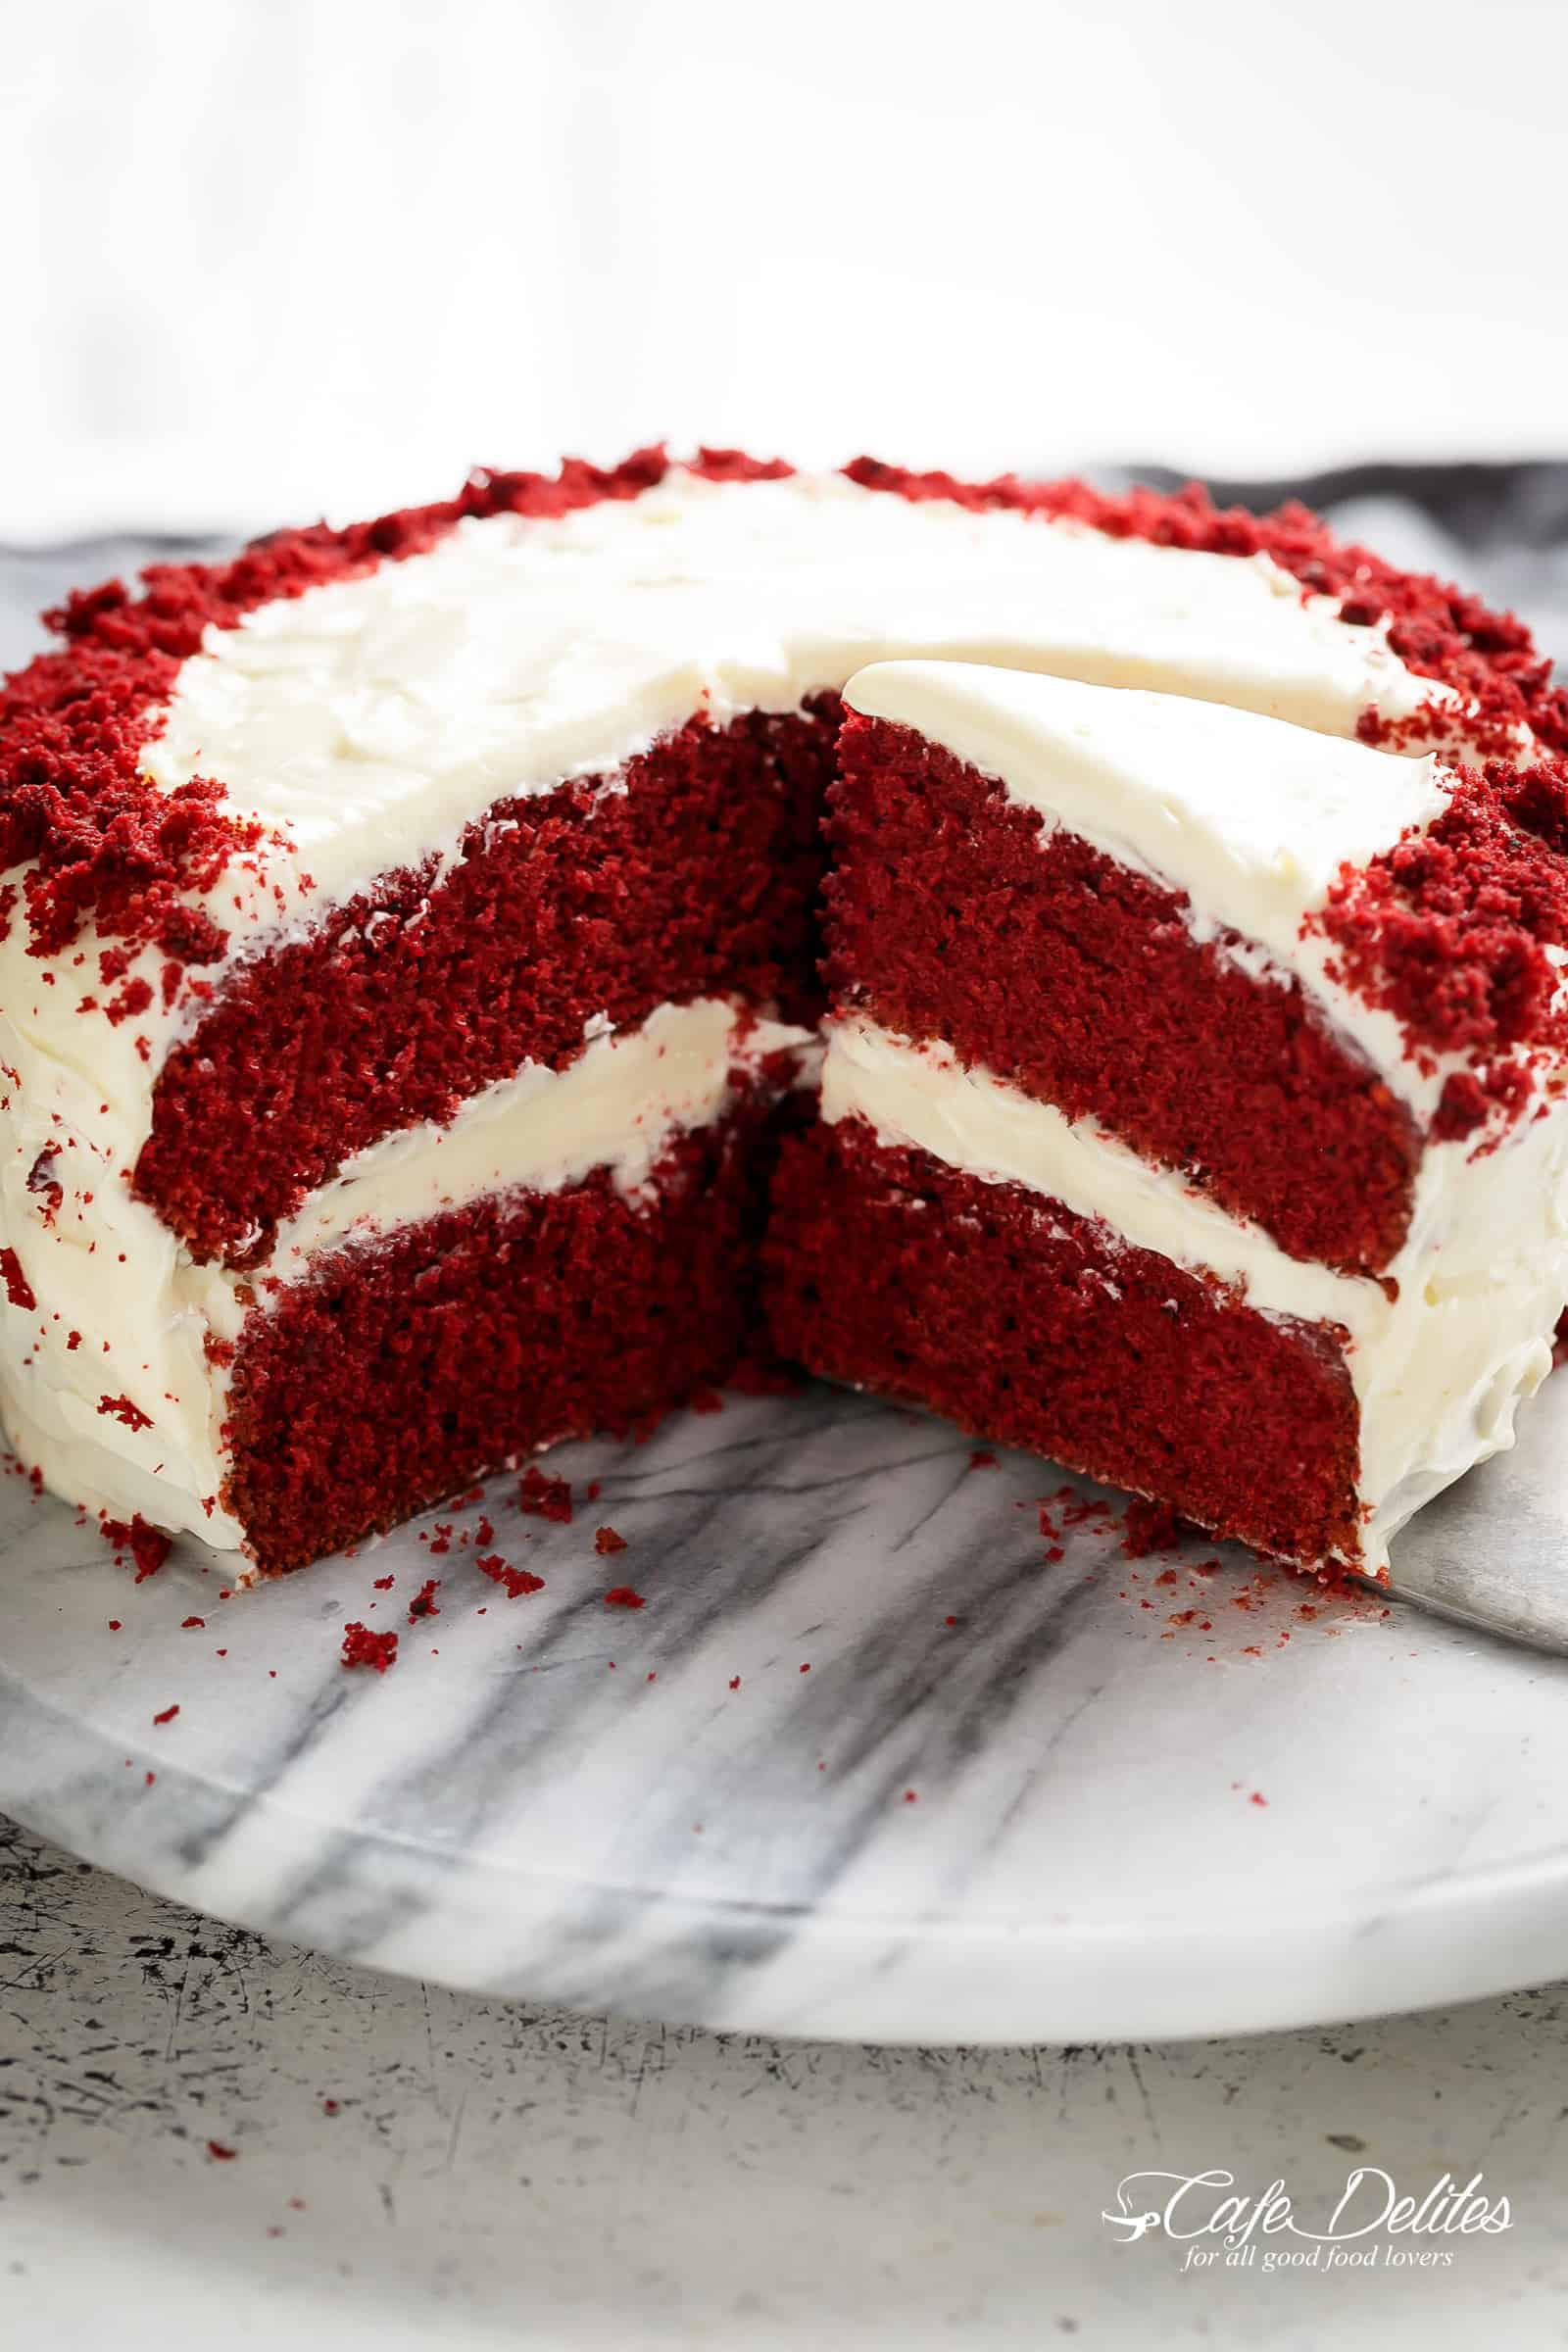red_velvet_cake: (10, 399, 1568, 1659)
